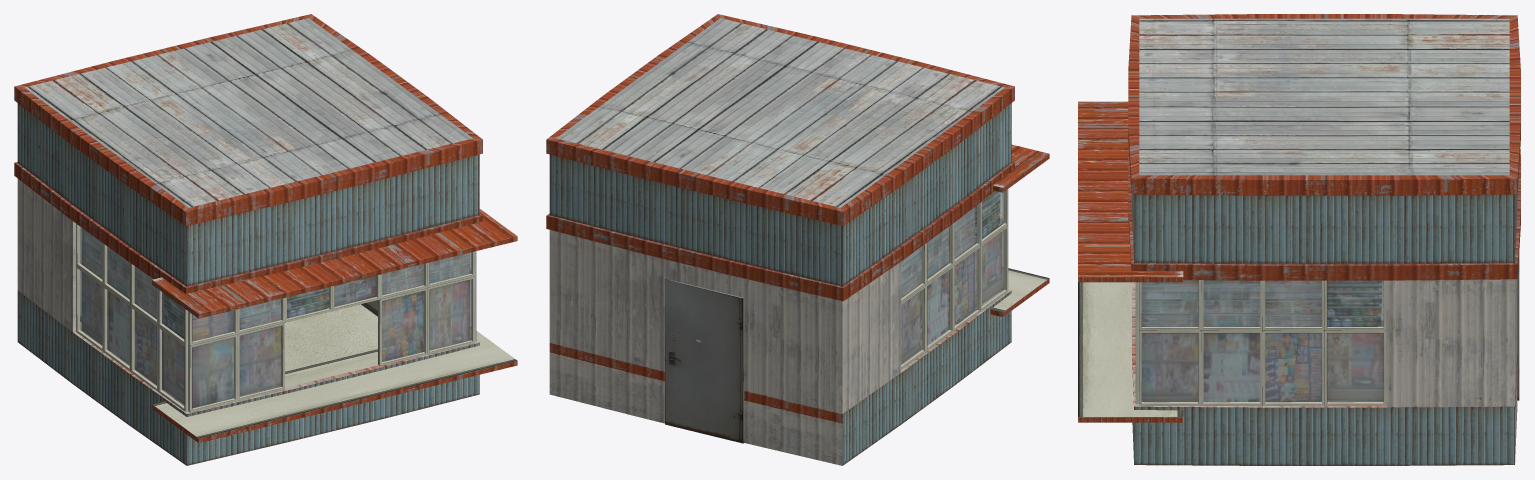
The model's file is simple_90_s_kiosk.glb.
3 views of the same model, side by side, from view 1: azimuth 30°, elevation 25°; view 2: azimuth 150°, elevation 25°; view 3: azimuth 270°, elevation 25° (orthographic). The views are drawn at different scales.
Visible parts, largest first — view 1: Object_6, Object_3, Object_4, Object_8, Object_7, Object_2; view 2: Object_4, Object_6, Object_3, Object_5, Object_8, Object_7, Object_2; view 3: Object_6, Object_3, Object_4, Object_7, Object_8, Object_2.
Boxes of the visible parts, x1=… form: Object_6: x1=24, y1=18, x2=472, y2=207; Object_3: x1=17, y1=103, x2=479, y2=465; Object_4: x1=14, y1=14, x2=517, y2=442; Object_8: x1=80, y1=226, x2=471, y2=407; Object_7: x1=81, y1=228, x2=470, y2=407; Object_2: x1=76, y1=223, x2=516, y2=438; Object_4: x1=546, y1=14, x2=1049, y2=465; Object_6: x1=556, y1=18, x2=1004, y2=207; Object_3: x1=549, y1=103, x2=1011, y2=465; Object_5: x1=665, y1=279, x2=744, y2=443; Object_8: x1=901, y1=191, x2=1004, y2=364; Object_7: x1=901, y1=191, x2=1002, y2=363; Object_2: x1=901, y1=189, x2=1048, y2=369; Object_6: x1=1139, y1=18, x2=1509, y2=175; Object_3: x1=1132, y1=194, x2=1517, y2=465; Object_4: x1=1078, y1=14, x2=1520, y2=462; Object_7: x1=1142, y1=280, x2=1383, y2=401; Object_8: x1=1142, y1=280, x2=1383, y2=401; Object_2: x1=1078, y1=280, x2=1386, y2=416.
Bounding box in the file's own units: 5.59 × 4.28 × 5.98.
7 materials, 7 textured.
